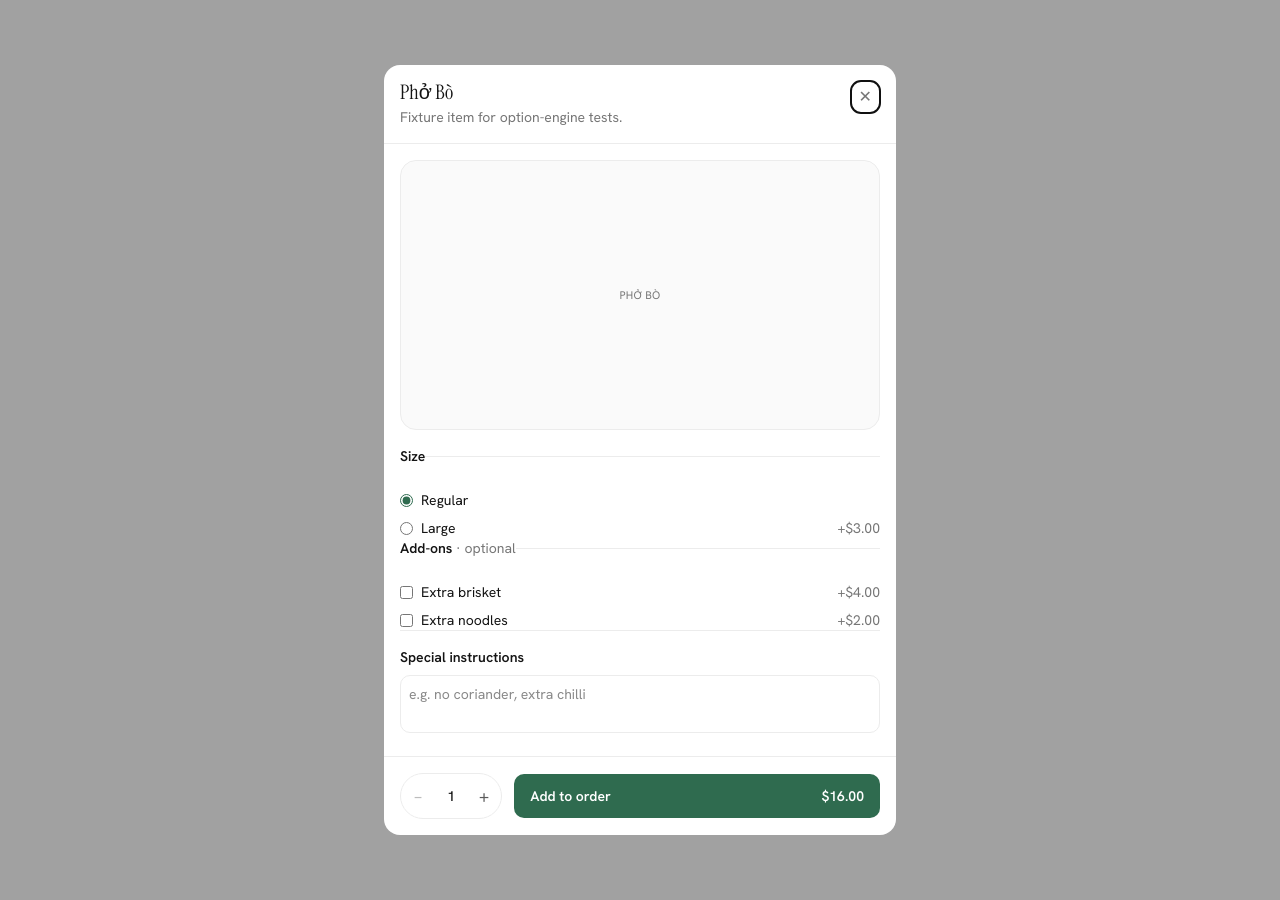
ItemModal › multiplies the total by quantity
Click the button named "increase quantity". click: {"x": 484, "y": 796}
box: 467,774 -> 501,818
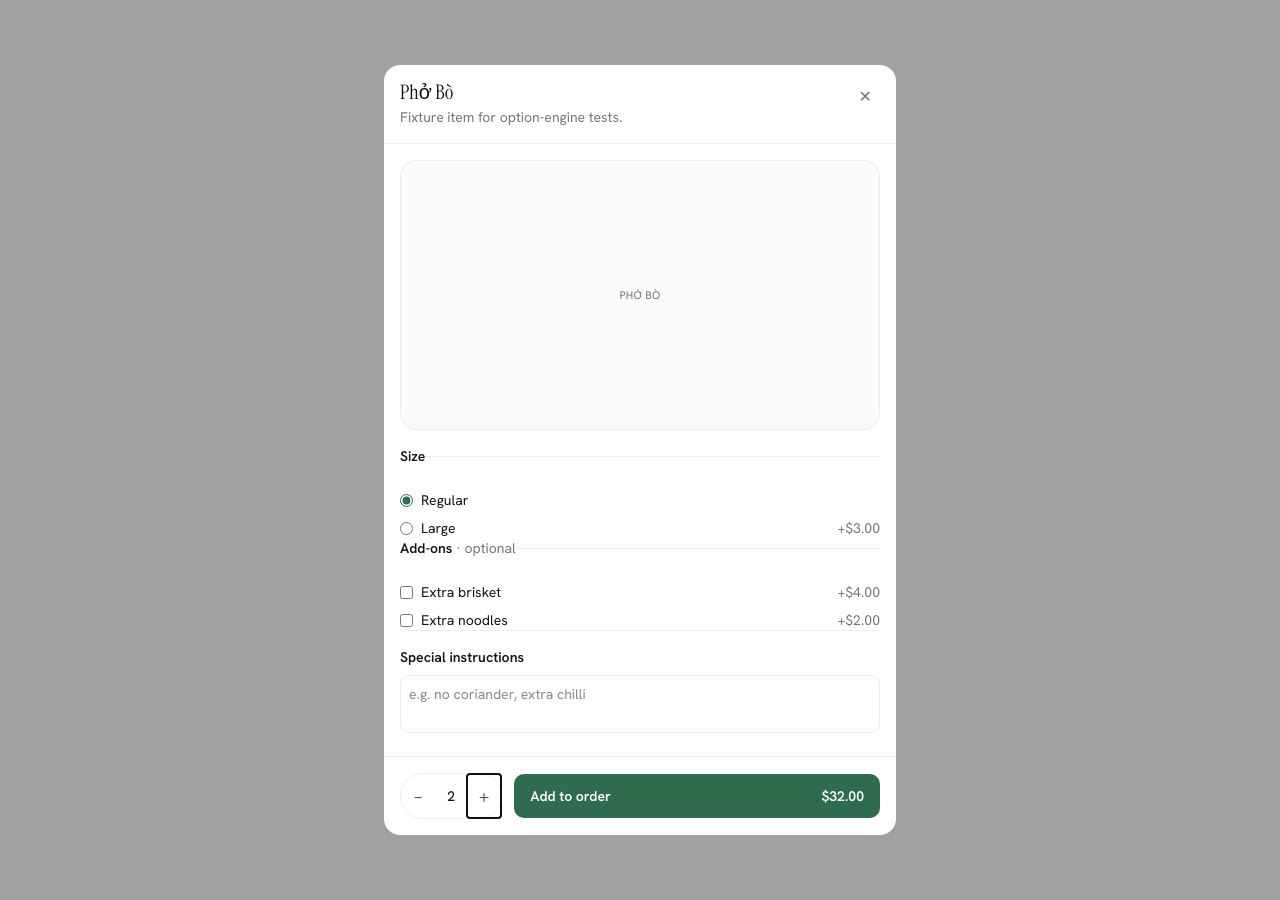
Check: the button "Add to order $32.00" is shown, box 514,774 -> 880,818
